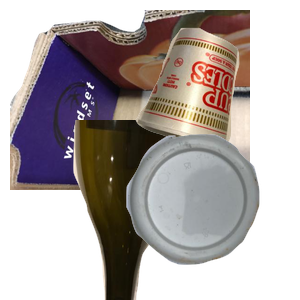cardboard: (10, 10, 250, 190)
glass: (71, 120, 254, 300)
plastic: (124, 132, 300, 300)
trash: (133, 25, 300, 167)
